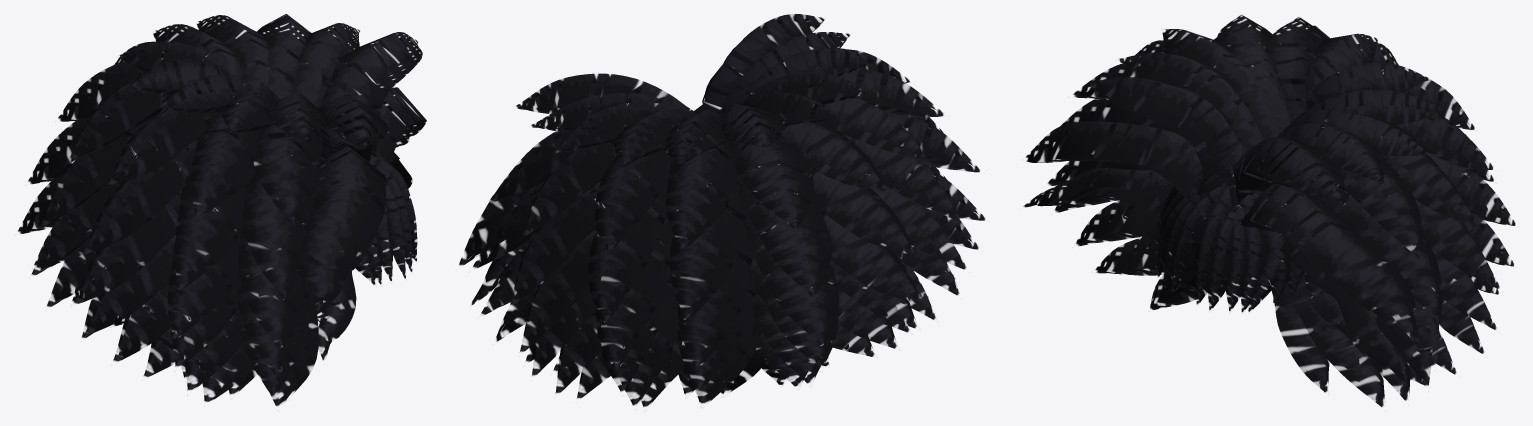
Rendered from Crespo_0.glb.
3 views of the same model, side by side, from view 1: azimuth 30°, elevation 25°; view 2: azimuth 150°, elevation 25°; view 3: azimuth 270°, elevation 25° (orthographic). The views are drawn at different scales.
Visible parts, largest first — view 1: Body.002; view 2: Body.002; view 3: Body.002.
Boxes of the visible parts, left/top/right/bottom form: Body.002: left=18, top=14, right=426, bottom=406; Body.002: left=459, top=14, right=985, bottom=406; Body.002: left=1023, top=14, right=1515, bottom=406.
Bounding box in the file's own units: 0.069 × 0.0491 × 0.074.
Materials: 1 (1 with a texture image).
